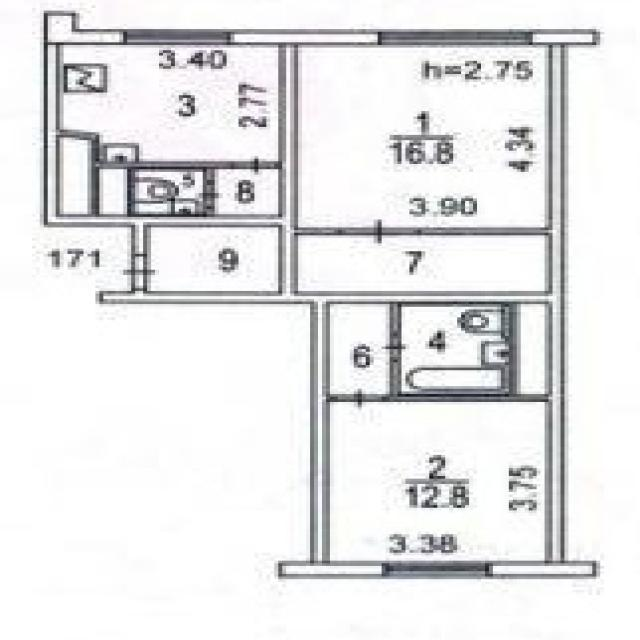Bathrooms: (402, 305, 515, 394), (134, 171, 200, 215)
Corridors: (296, 236, 545, 291), (40, 228, 130, 291), (330, 304, 388, 392), (219, 172, 276, 215)
Doors: (338, 216, 421, 245), (117, 254, 163, 291), (228, 152, 280, 177), (192, 179, 227, 216), (340, 388, 386, 412), (378, 332, 409, 362)
LBwalls: (547, 44, 566, 562), (96, 290, 547, 304), (311, 303, 330, 562), (278, 46, 297, 292), (44, 11, 127, 45), (229, 28, 378, 46), (491, 561, 596, 577), (278, 562, 384, 577), (532, 30, 599, 45), (389, 304, 402, 332)
Offices: (299, 47, 546, 227), (331, 401, 547, 561), (60, 45, 279, 160), (148, 227, 278, 290)
Walls: (42, 43, 284, 255), (383, 304, 548, 403), (420, 227, 547, 236), (296, 227, 340, 236), (328, 394, 340, 403)
Windows: (380, 30, 530, 44), (384, 560, 492, 578), (123, 28, 229, 43)
